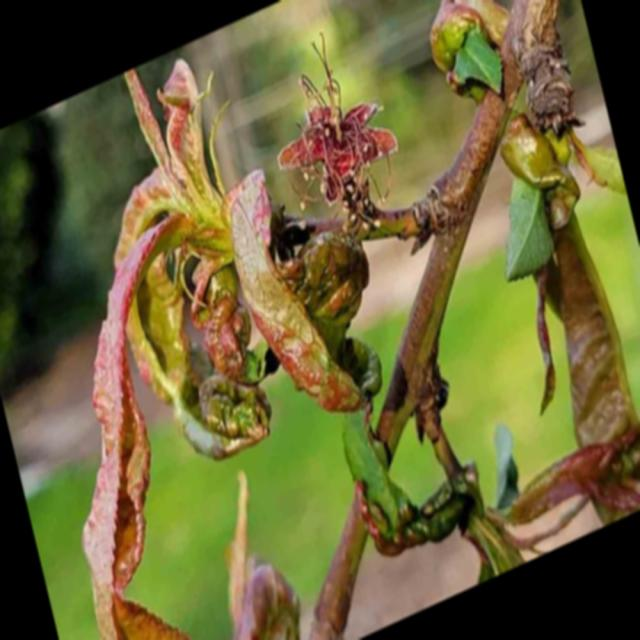peach_leaf_curl: (80, 52, 382, 639)
